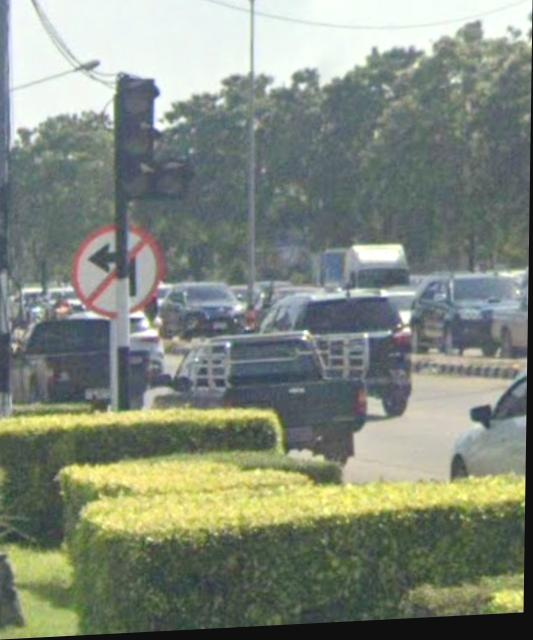not_turn_left: (72, 212, 165, 322)
